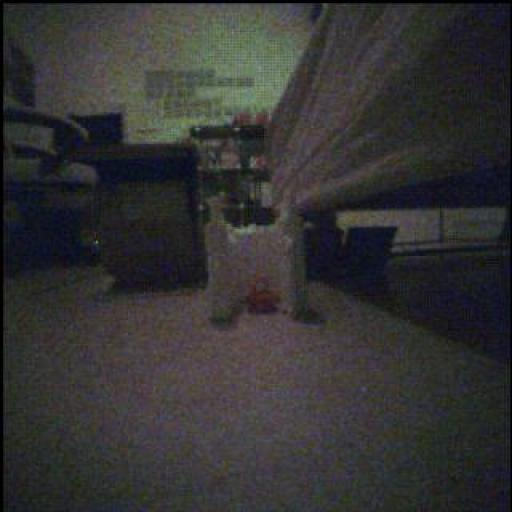basket: (247, 272, 279, 315)
